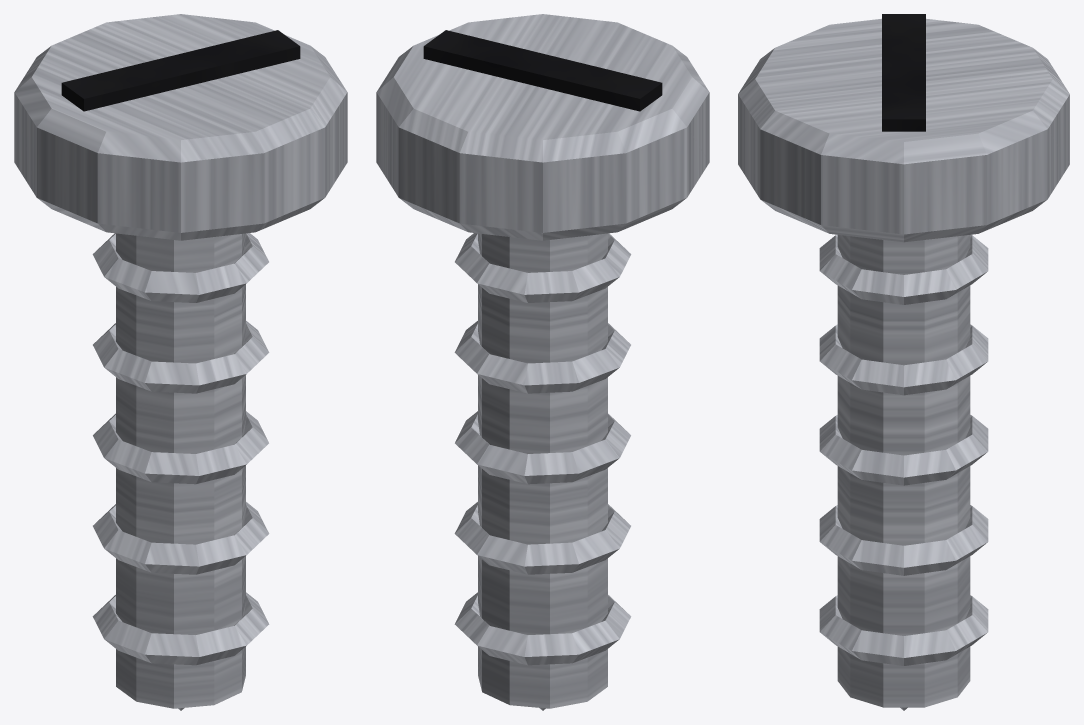
Rendered from mdl_pieza_tornillo.fbx.
The picture shows the model from 3 angles, left to right: view 1: azimuth 30°, elevation 25°; view 2: azimuth 150°, elevation 25°; view 3: azimuth 270°, elevation 25°; orthographic projection.
Parts seen in each view (by area): view 1: metal_acero, esmalte_negro; view 2: metal_acero, esmalte_negro; view 3: metal_acero, esmalte_negro.
Boxes of the visible parts, left/top/right/bottom form: metal_acero: left=14, top=14, right=347, bottom=710; esmalte_negro: left=61, top=30, right=300, bottom=111; metal_acero: left=376, top=14, right=709, bottom=710; esmalte_negro: left=423, top=30, right=662, bottom=111; metal_acero: left=738, top=18, right=1069, bottom=710; esmalte_negro: left=882, top=14, right=925, bottom=131.
Size of the model in its own units: 60 by 129 by 60.
